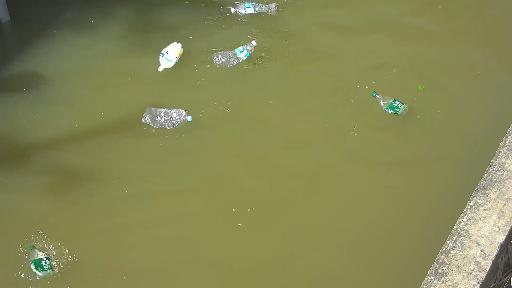leaf: (411, 78, 427, 93)
plastic: (132, 96, 207, 136), (220, 1, 294, 25), (150, 35, 193, 71), (214, 40, 270, 66), (369, 88, 409, 120), (28, 230, 48, 284)
